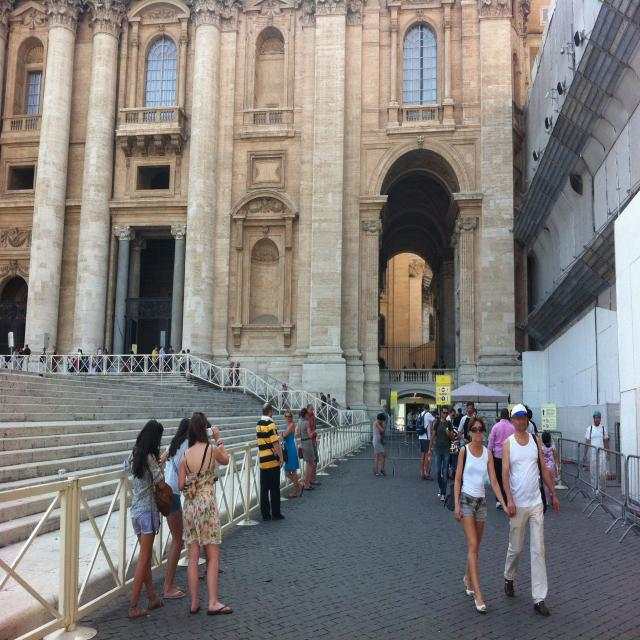body: (500, 403, 562, 620), (454, 415, 516, 613), (175, 410, 234, 617), (122, 419, 166, 620), (160, 417, 190, 599), (197, 421, 223, 580), (256, 401, 286, 521), (486, 407, 516, 510), (582, 408, 611, 504), (428, 404, 456, 501), (277, 408, 305, 498), (294, 408, 317, 492), (416, 403, 438, 481), (540, 432, 561, 507), (305, 403, 322, 486), (457, 401, 479, 446), (372, 413, 387, 477), (448, 416, 462, 480), (403, 408, 417, 446), (486, 414, 501, 446), (522, 404, 537, 432), (224, 361, 237, 392), (331, 398, 340, 427), (151, 344, 159, 375), (320, 392, 328, 422), (233, 362, 241, 392), (158, 345, 166, 375), (280, 382, 288, 410), (23, 344, 31, 372), (381, 403, 388, 432), (446, 408, 456, 427), (166, 345, 173, 372), (127, 353, 136, 372), (344, 406, 352, 425), (431, 362, 438, 382), (207, 365, 215, 382), (15, 351, 22, 370), (326, 393, 332, 415), (431, 408, 441, 421), (185, 348, 191, 368), (100, 348, 110, 360), (181, 350, 186, 372), (0, 352, 5, 374), (40, 347, 46, 364), (78, 348, 82, 373), (128, 347, 134, 362), (84, 356, 89, 374), (456, 408, 464, 419), (91, 356, 98, 367), (17, 347, 24, 358), (13, 347, 18, 362), (80, 349, 86, 361), (74, 356, 78, 374), (508, 407, 512, 424), (416, 406, 420, 422), (66, 354, 70, 369), (51, 344, 56, 354), (472, 408, 478, 416), (441, 360, 446, 369), (412, 362, 417, 369), (70, 358, 76, 363), (421, 364, 426, 369), (171, 349, 174, 355), (402, 366, 406, 370), (385, 366, 388, 369)
